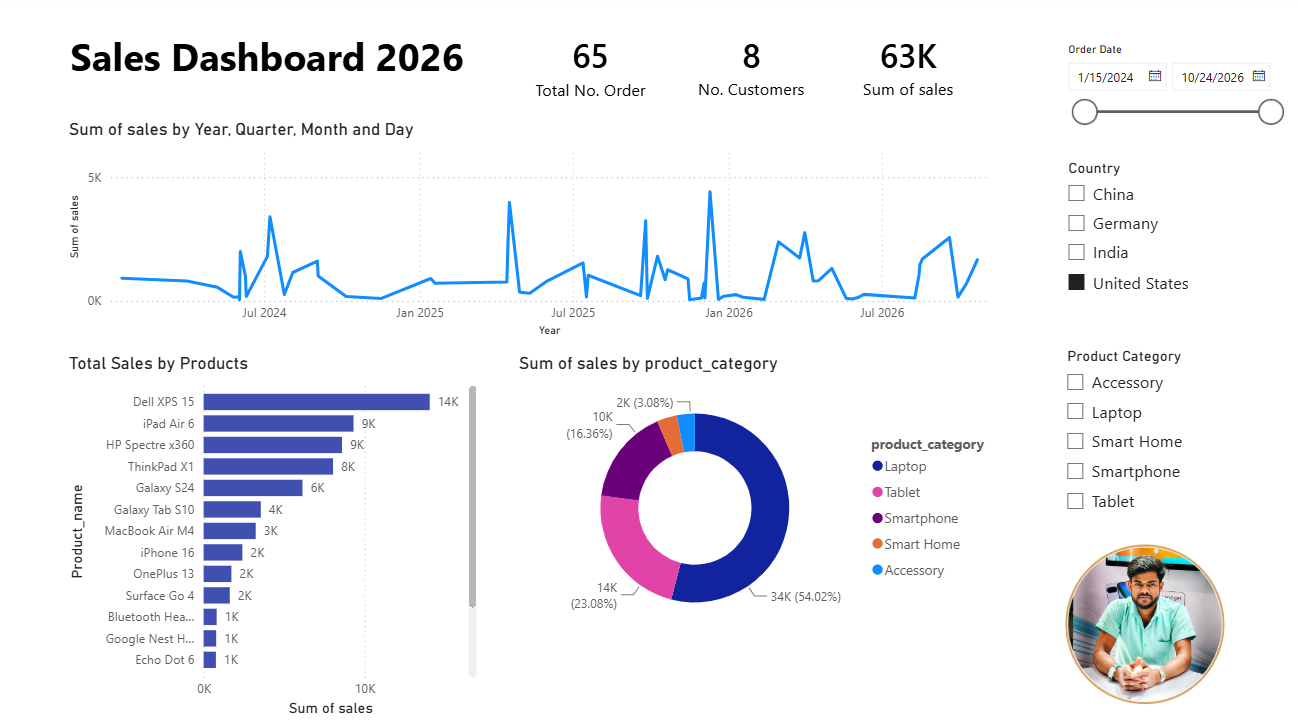

The page's visual inventory and layout, read from the dashboard file:
{"tool":"powerbi","page":{"name":"Sales 2026","canvas":[1280,720],"ordinal":0},"visuals":[{"type":"barChart","title":"Total Sales by Products","fields":{"Category":["orders.product_name"],"Y":["Sum(orders.sales)"]},"box":[68.6,349.9,408.9,360.9],"z":0},{"type":"donutChart","fields":{"Category":["orders.product_category"],"Y":["Sum(orders.sales)"]},"box":[506.9,386.7,480.3,285.4],"z":1000},{"type":"cardVisual","fields":{"Data":["CountNonNull(orders.order_id)"]},"box":[505,17.8,157.8,102.9],"z":2000},{"type":"cardVisual","fields":{"Data":["Count(orders.customer_id)"]},"box":[662.5,15.9,156.4,107],"z":3000},{"type":"cardVisual","fields":{"Data":["Sum(orders.sales)"]},"box":[819.2,16.5,150.9,107],"z":4000},{"type":"lineChart","fields":{"Y":["Sum(orders.sales)"],"Category":["orders.OrderDate.Variation.Date Hierarchy.Year","orders.OrderDate.Variation.Date Hierarchy.Quarter","orders.OrderDate.Variation.Date Hierarchy.Month","orders.OrderDate.Variation.Date Hierarchy.Day"]},"box":[68.6,120.8,920.8,218.2],"z":5000},{"type":"slicer","fields":{"Values":["customers.country"]},"box":[1038.8,156.4,241.5,148.2],"z":6000},{"type":"slicer","fields":{"Values":["orders.product_category"]},"box":[1038.8,338.9,241.5,215.4],"z":7000},{"type":"slicer","fields":{"Values":["orders.OrderDate"]},"box":[1038.8,26.1,241.5,97.4],"z":8000},{"type":"textbox","box":[70,28.8,407.5,65.9],"z":9000}]}

Visuals, with their boxes in screenshot pixels (x1, y1, x2, y2), scaled from the page's 1280x720 canvas onto the 1298x725 screenshot:
"Total Sales by Products" barChart: left=70, top=352, right=484, bottom=716
donutChart - orders.product_category x Sum(orders.sales): left=514, top=389, right=1001, bottom=677
cardVisual - CountNonNull(orders.order_id): left=512, top=18, right=672, bottom=122
cardVisual - Count(orders.customer_id): left=672, top=16, right=830, bottom=124
cardVisual - Sum(orders.sales): left=831, top=17, right=984, bottom=124
lineChart - Sum(orders.sales) x orders.OrderDate.Variation.Date Hierarchy.Year: left=70, top=122, right=1003, bottom=341
slicer - customers.country: left=1053, top=157, right=1297, bottom=307
slicer - orders.product_category: left=1053, top=341, right=1297, bottom=558
slicer - orders.OrderDate: left=1053, top=26, right=1297, bottom=124
textbox: left=71, top=29, right=484, bottom=95
